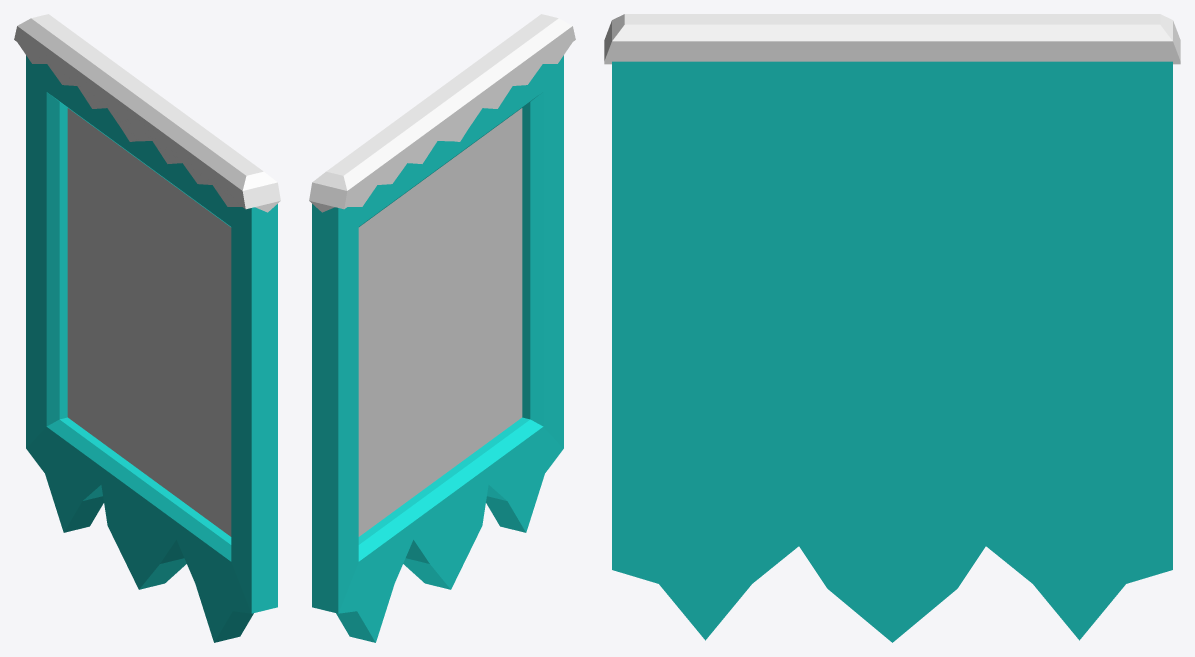
The model's file is frameC2.fbx.
3 renders of one model, left to right at view 1: azimuth 30°, elevation 25°; view 2: azimuth 150°, elevation 25°; view 3: azimuth 270°, elevation 25°, orthographic. The views are drawn at different scales.
Visible parts, largest first — view 1: Plane; view 2: Plane; view 3: Plane.
Part boxes in pixels (x1,y1,x2,y2): Plane: (14,14,280,642); Plane: (309,14,575,642); Plane: (604,14,1180,642).
Size of the model in its own units: 53.13 by 621 by 529.
